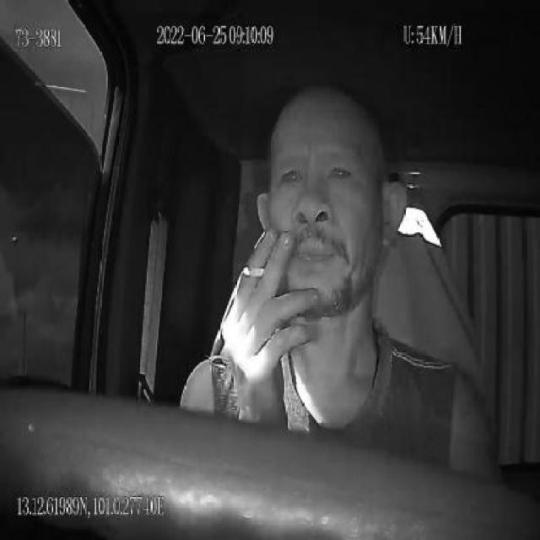smoking: (241, 264, 264, 279)
